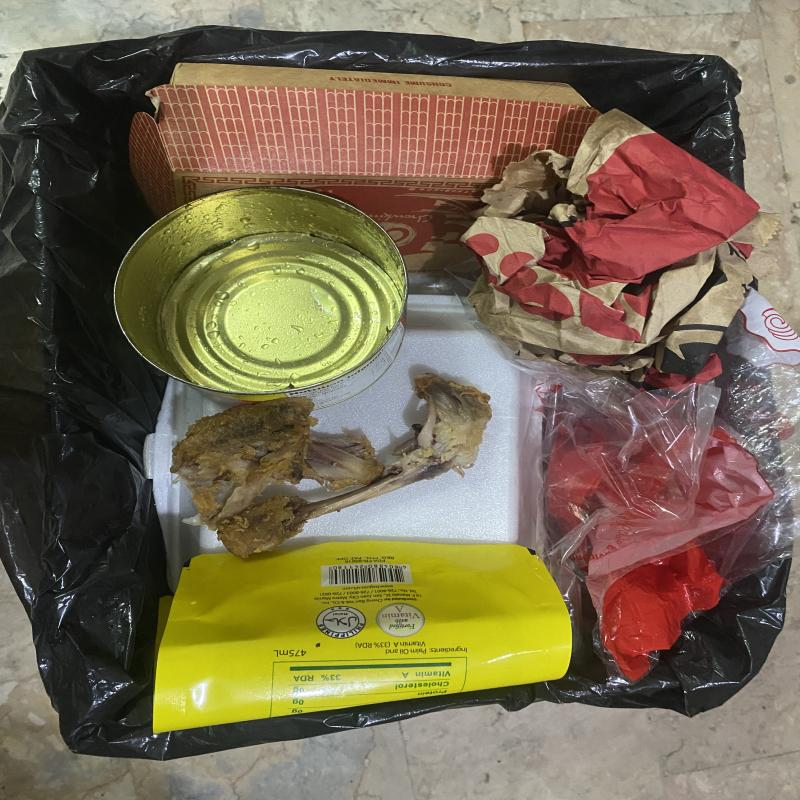aluminum: (113, 186, 408, 410)
cardboard: (129, 63, 599, 272)
food wrapper: (152, 541, 573, 734)
left-over food: (170, 373, 493, 560)
paper: (460, 110, 760, 390)
plastic bag: (517, 288, 800, 683)
styrofoam containers: (302, 295, 544, 550)
